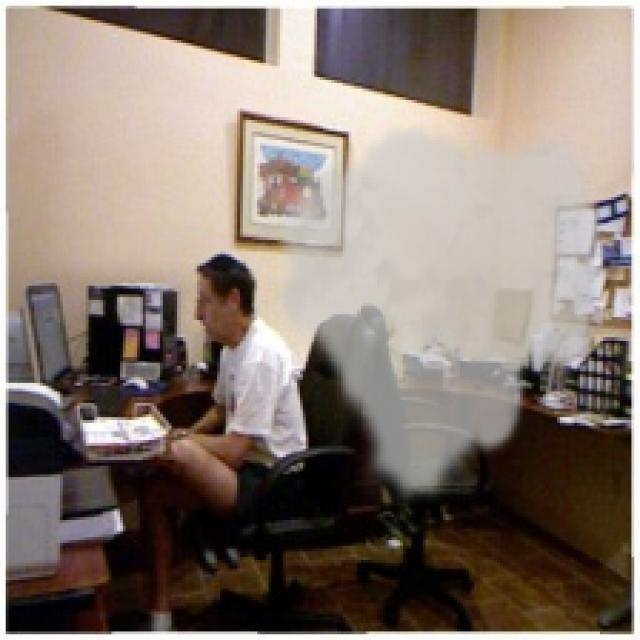Smoke: (266, 120, 608, 509)
